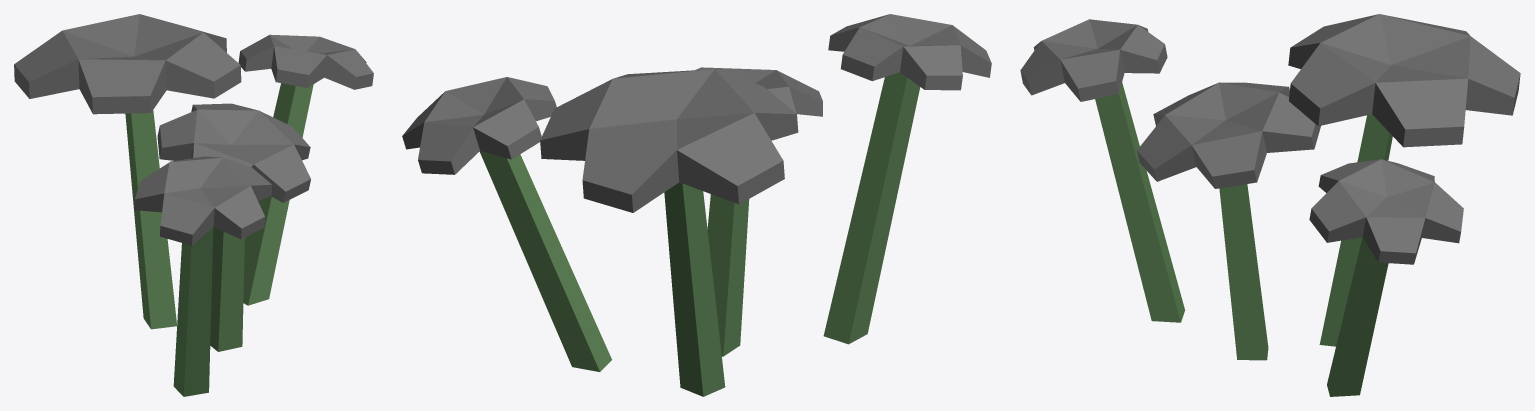
The model's file is SM_Env_FlowerPatch_02.fbx.
The picture shows the model from 3 angles, left to right: view 1: azimuth 30°, elevation 25°; view 2: azimuth 150°, elevation 25°; view 3: azimuth 270°, elevation 25°; orthographic projection. The views are drawn at different scales.
Parts seen in each view (by area): view 1: SM_Env_FlowerPatch_02; view 2: SM_Env_FlowerPatch_02; view 3: SM_Env_FlowerPatch_02.
Boxes of the visible parts, x1,y1,x2,y2 form: SM_Env_FlowerPatch_02: (14, 14, 373, 396); SM_Env_FlowerPatch_02: (402, 14, 991, 396); SM_Env_FlowerPatch_02: (1020, 14, 1520, 396).
Bounding box in the file's own units: 47.3 × 34.65 × 53.05.
